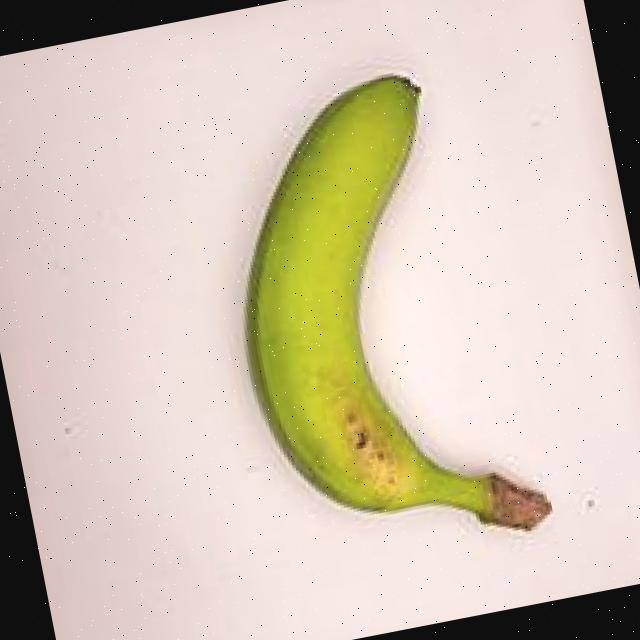Unripe: (136, 21, 614, 606)
